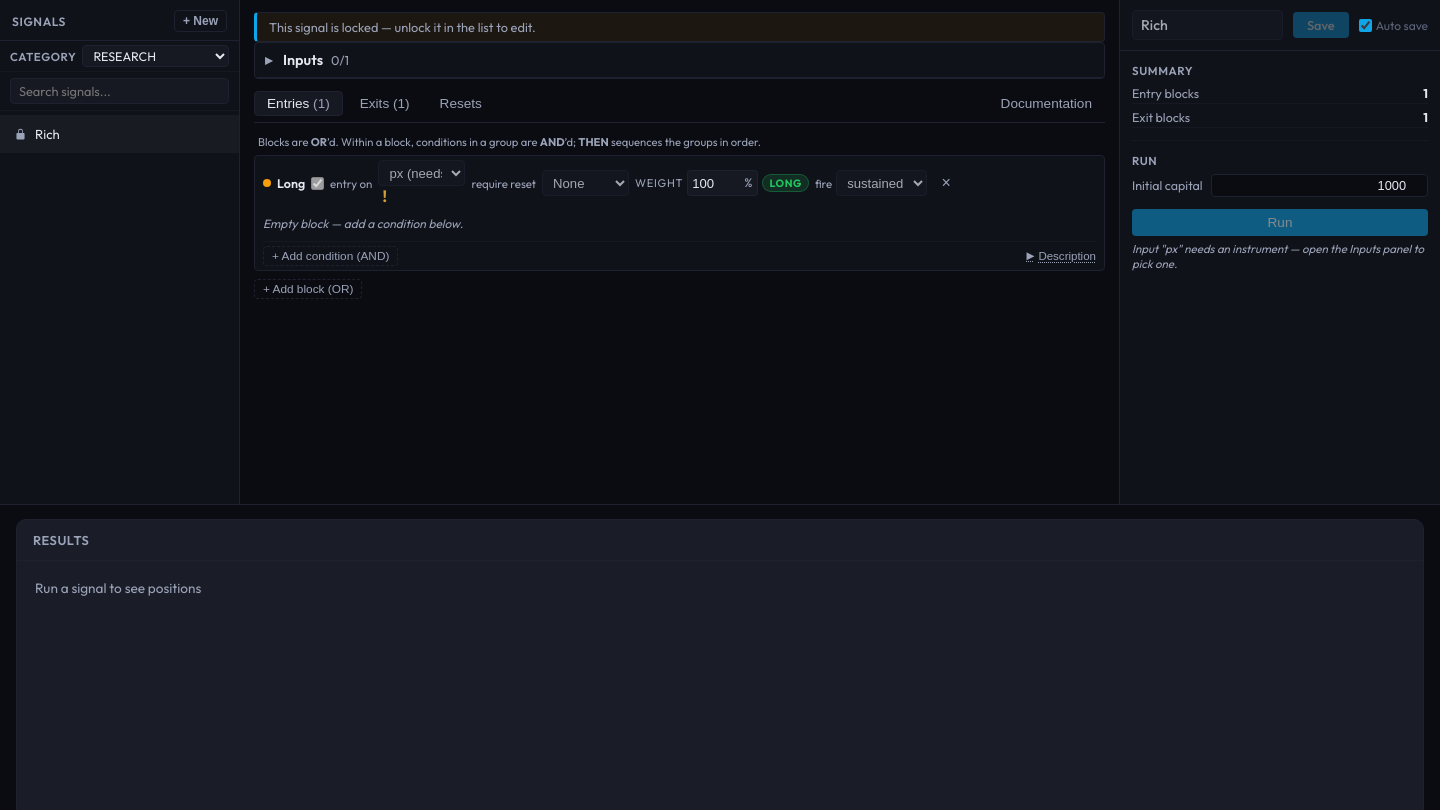
Test: SignalsPage — locked signal: rich shapes stay VISIBLE but read-only › shows the chosen exit target in the (disabled) target select while locked
Expected: the message "This signal is locked — unlock it in the list to edit." is shown, [254,12,1105,42]
// Navigate to the Exits tab (view affordance works when locked).
Click the tab with test id "section-tab-exits".
click(385, 104)  # box [347,91,423,116]
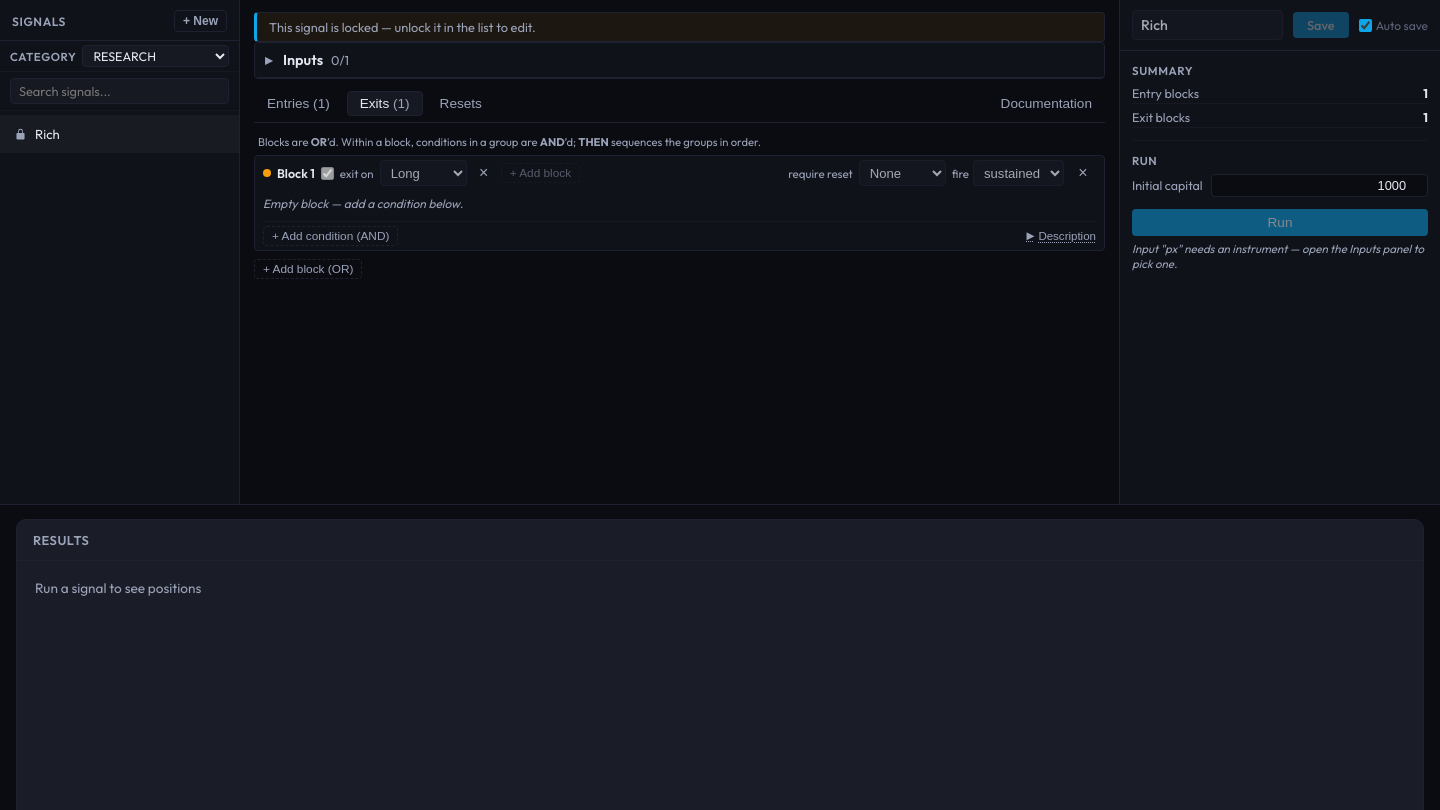
Expected: the dropdown with test id "target-entry-select-0-0" shows "Long", [380,160,467,186]
